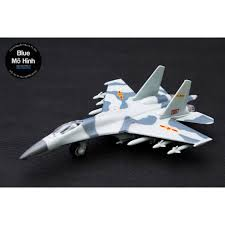maybay_muctieu: (22, 73, 215, 153)
ten_lua: (167, 143, 198, 153), (150, 137, 173, 150)
